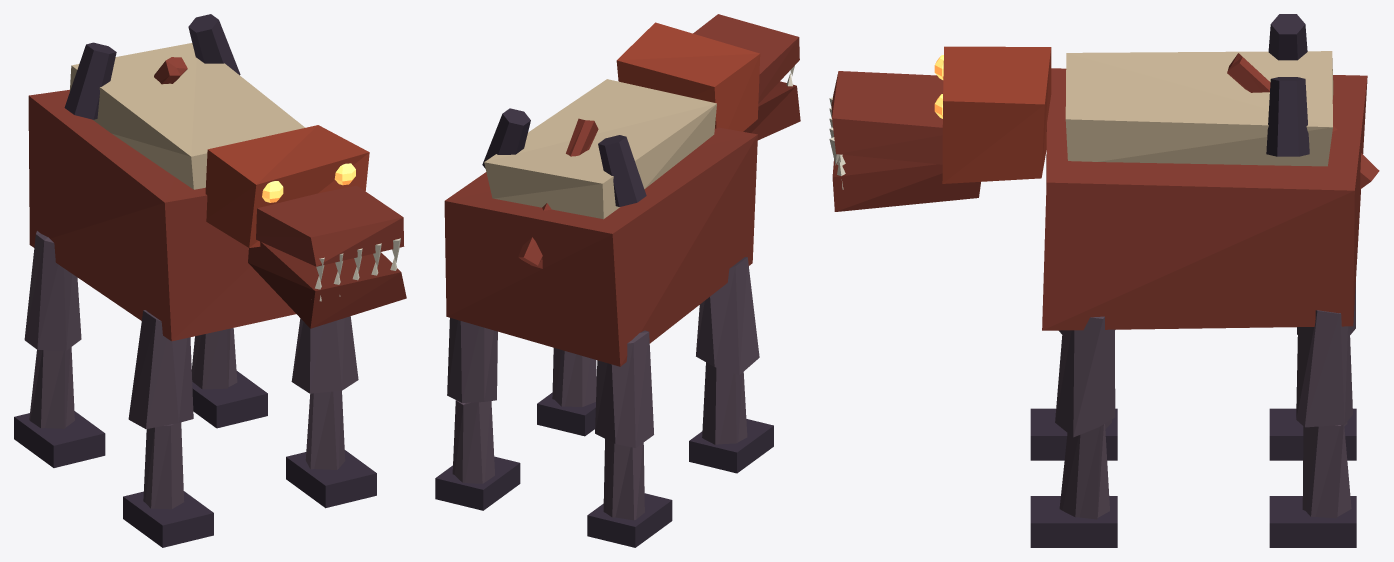
The model's file is fusion-toothy-mech-v1.glb.
3 renders of one model, left to right at view 1: azimuth 30°, elevation 25°; view 2: azimuth 150°, elevation 25°; view 3: azimuth 270°, elevation 25°, orthographic. The views are drawn at different scales.
Visible parts, largest first — view 1: Toothy Mech, object 2, object 5, object 11, object 17, object 23, object 20, object 19, object 25, object 22, object 24, object 18 (+4 smaller); view 2: Toothy Mech, object 2, object 23, object 17, object 26, object 5, object 27, object 18, object 24, object 25, object 19, object 28 (+5 smaller); view 3: Toothy Mech, object 2, object 5, object 20, object 26, object 11, object 27, object 21, object 28, object 22, object 25, object 19 (+1 smaller).
Part boxes in pixels (box(x1,y1,x2,y2)): Toothy Mech: box(28, 14, 304, 341); object 2: box(205, 125, 369, 247); object 5: box(256, 185, 404, 266); object 11: box(248, 241, 406, 328); object 17: box(128, 310, 193, 428); object 23: box(24, 231, 81, 350); object 20: box(291, 316, 358, 393); object 19: box(123, 491, 213, 547); object 25: box(14, 411, 105, 467); object 22: box(286, 450, 376, 508); object 24: box(29, 347, 74, 428); object 18: box(143, 422, 184, 509); Toothy Mech: box(444, 79, 757, 366); object 2: box(616, 22, 760, 131); object 23: box(595, 330, 653, 447); object 17: box(696, 257, 759, 375); object 26: box(447, 318, 497, 402); object 5: box(693, 14, 799, 103); object 27: box(452, 400, 494, 483); object 18: box(702, 362, 747, 444); object 24: box(603, 439, 644, 520); object 25: box(587, 493, 672, 547); object 19: box(689, 419, 773, 473); object 28: box(435, 456, 520, 510); Toothy Mech: box(1042, 14, 1367, 330); object 2: box(942, 46, 1051, 183); object 5: box(831, 71, 943, 164); object 20: box(1055, 316, 1115, 437); object 26: box(1296, 310, 1352, 427); object 11: box(832, 155, 980, 211); object 27: box(1302, 424, 1351, 518); object 21: box(1059, 424, 1109, 519); object 28: box(1269, 496, 1356, 547); object 22: box(1030, 496, 1117, 547); object 25: box(1269, 408, 1356, 460); object 19: box(1030, 408, 1117, 460).
Bounding box in the file's own units: 2.52 × 4.52 × 5.06.
